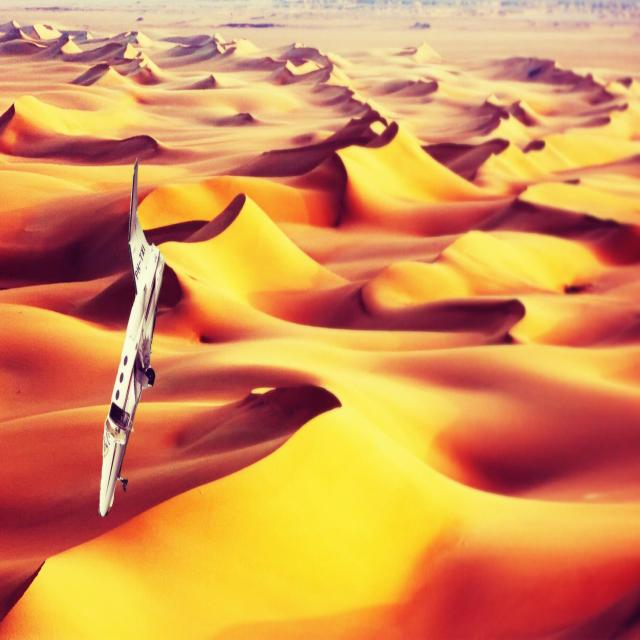airplane: (98, 155, 167, 519)
